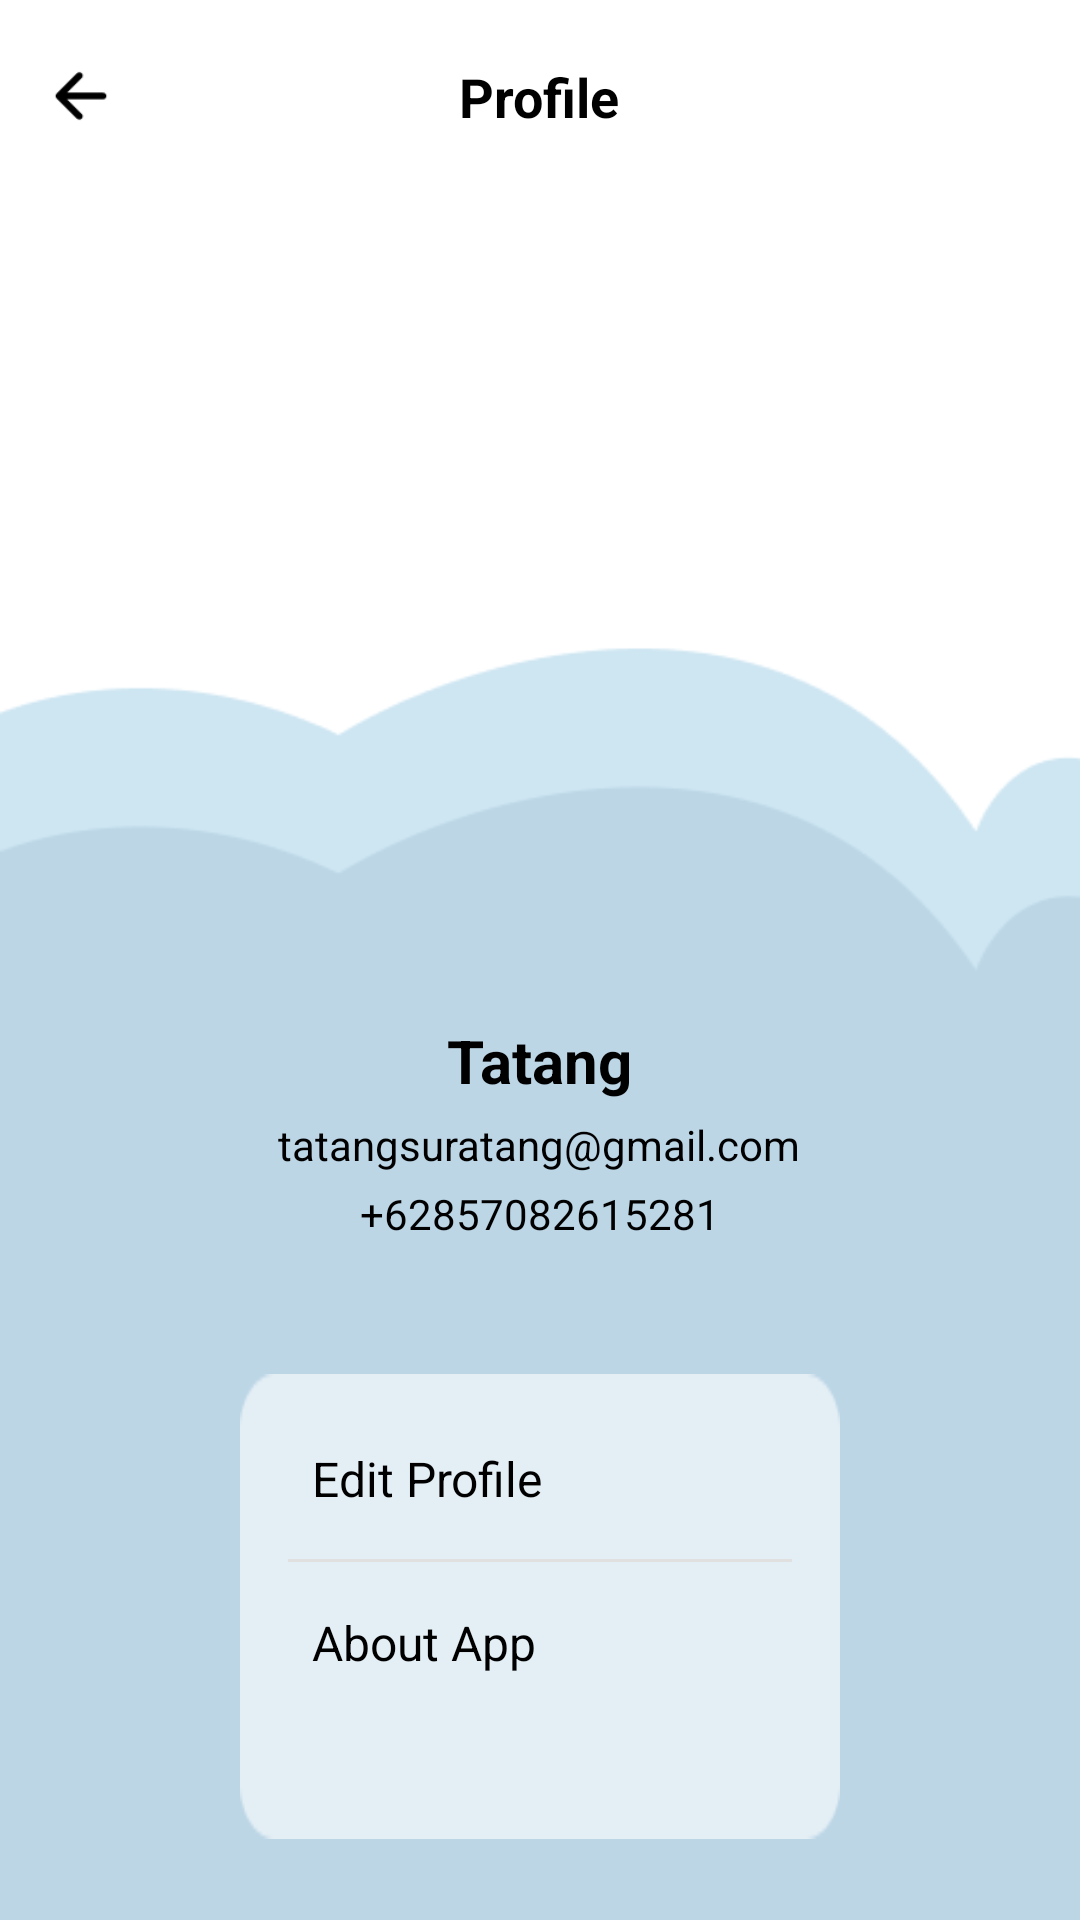

Icon bounding boxes for this 1080 × 1920 phone screenshot, format (x1, y1, x2, y2):
Back Icon: (55, 72, 107, 120)
